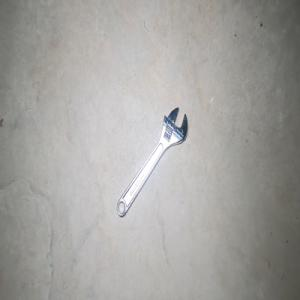Wrench: (116, 106, 188, 217)
